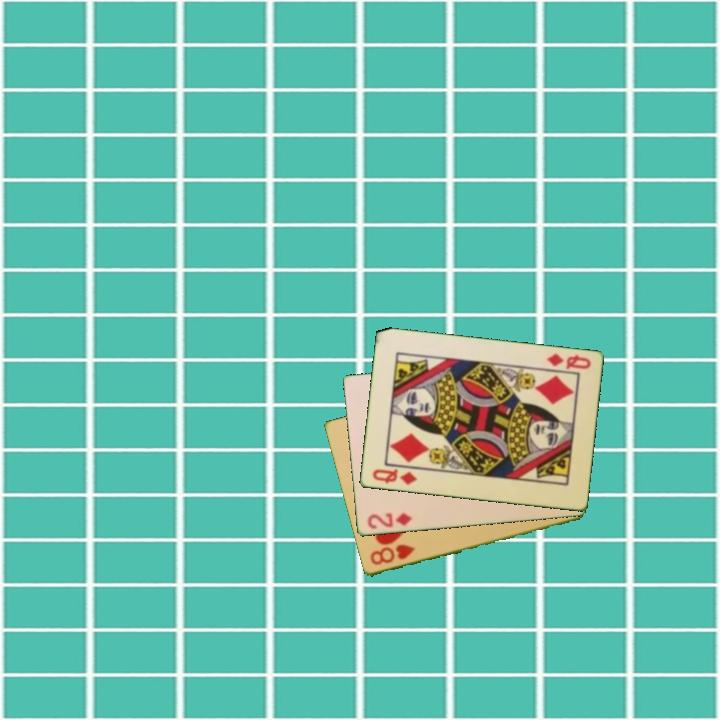2d: (364, 510, 414, 532)
8h: (367, 541, 417, 568)
Qd: (369, 466, 420, 488), (543, 350, 593, 372)
